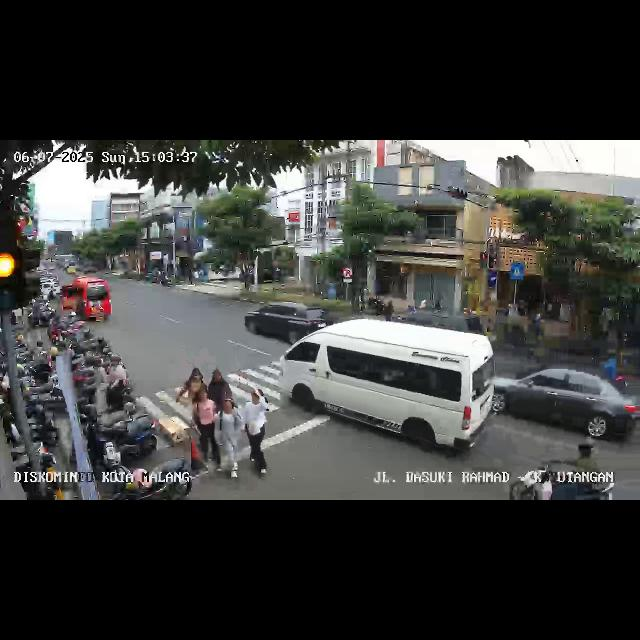car: (282, 315, 470, 459), (474, 363, 640, 449), (242, 296, 332, 346), (60, 278, 111, 324)
motorcycle: (509, 440, 616, 500), (602, 346, 638, 398)
person: (240, 388, 272, 480), (212, 400, 242, 484), (193, 388, 220, 468), (174, 366, 203, 404), (206, 368, 234, 407)
